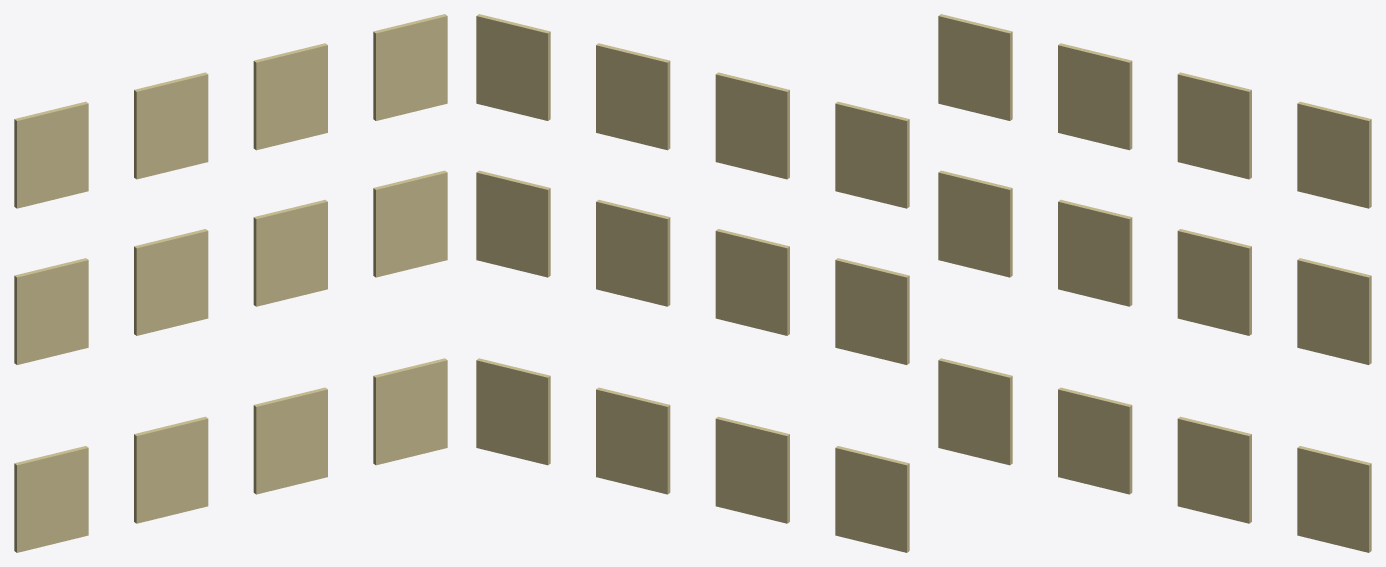
The model's file is Building2_Glow.glb.
3 views of the same model, side by side, from view 1: azimuth 30°, elevation 25°; view 2: azimuth 150°, elevation 25°; view 3: azimuth 330°, elevation 25° (orthographic).
Visible parts, largest first — view 1: Building2_Glow; view 2: Building2_Glow; view 3: Building2_Glow.
Boxes of the visible parts, bbox=[...] form: Building2_Glow: bbox=[14, 14, 447, 552]; Building2_Glow: bbox=[476, 14, 909, 552]; Building2_Glow: bbox=[938, 14, 1371, 552].
Size of the model in its own units: 7.2 by 6.9 by 0.08.
